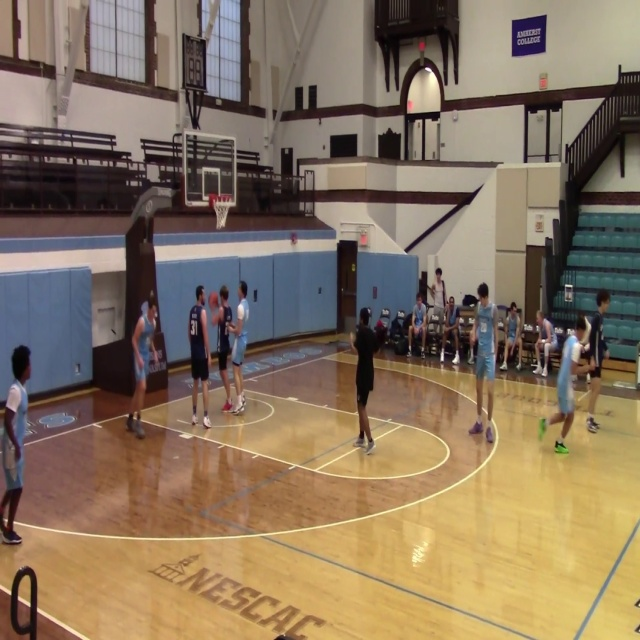Basketball: (485, 424, 494, 443), (209, 292, 218, 308)
